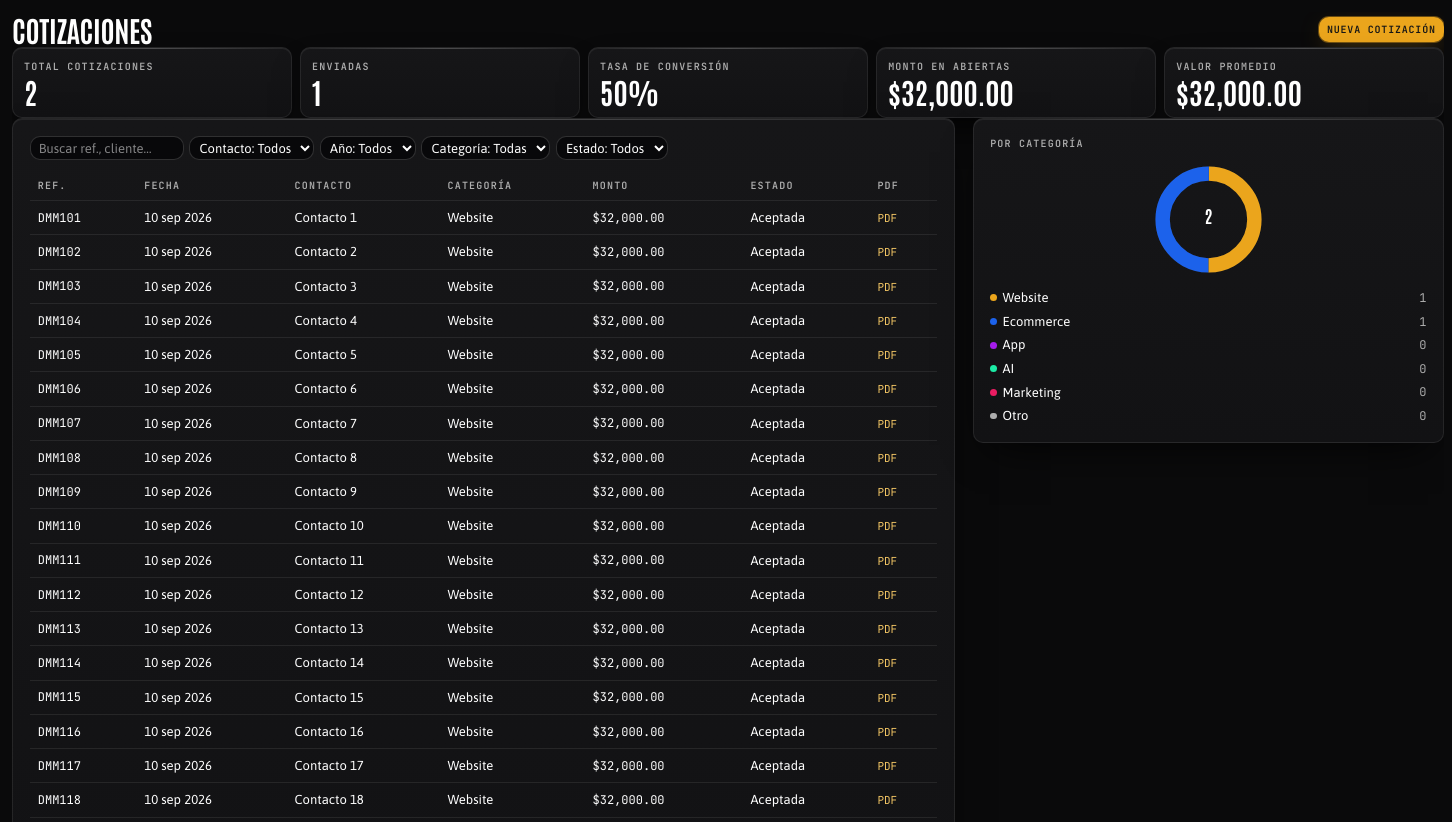
it: Cotizaciones, 20 a page › shows Todos for a remembered Contacto no longer in the list
Select "Contacto 1" in the dropdown named "Contacto" at coordinates (252, 148), box [189,136,314,160]
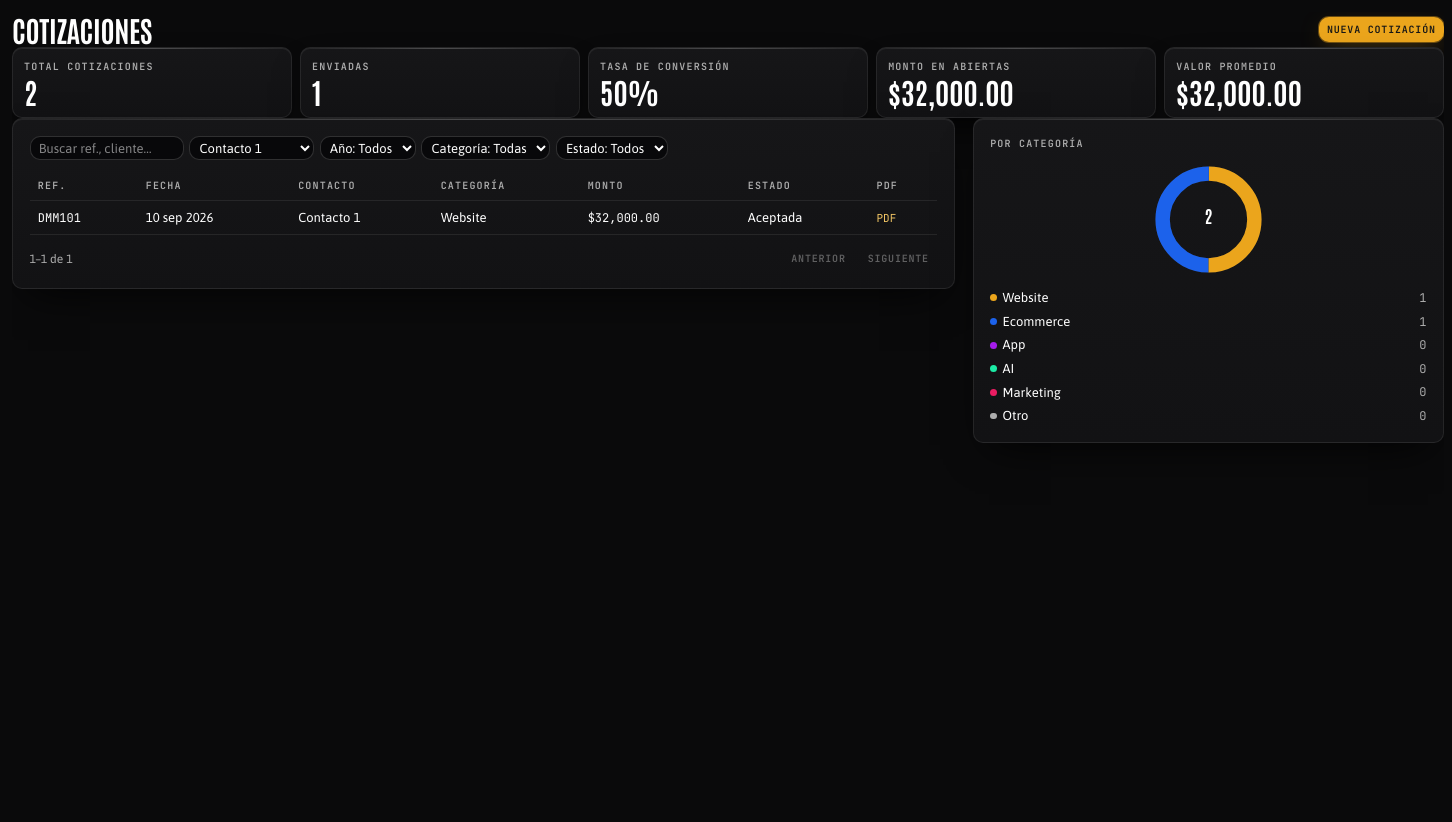
expect the text "1–1 de 1" is shown: met, box [30,250,73,268]
